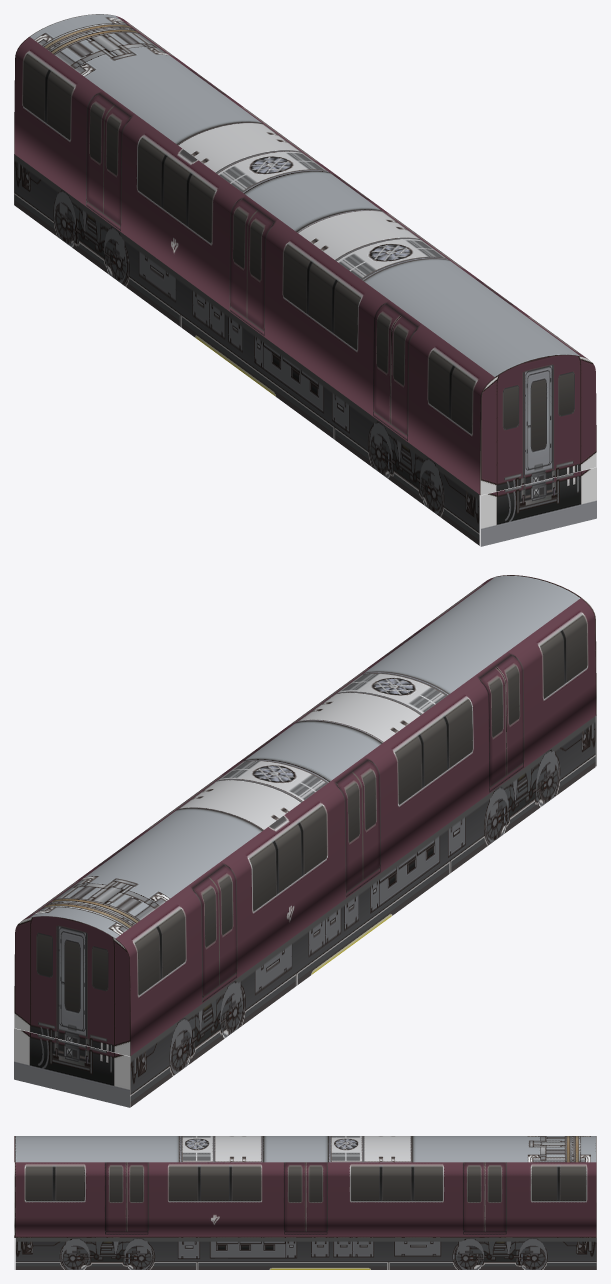
Rendered from car3.glb.
3 views of the same model, one above another, from view 1: azimuth 30°, elevation 25°; view 2: azimuth 150°, elevation 25°; view 3: azimuth 270°, elevation 25° (orthographic). The views are drawn at different scales.
Parts seen in each view (by area): view 1: hankyu-1000-car3; view 2: hankyu-1000-car3; view 3: hankyu-1000-car3.
Part boxes in pixels (bbox=[...]): hankyu-1000-car3: bbox=[14, 14, 596, 546]; hankyu-1000-car3: bbox=[14, 575, 596, 1107]; hankyu-1000-car3: bbox=[14, 1136, 596, 1269].
Size of the model in its own units: 2.73 by 3.9 by 19.03.
Materials: 9 (8 with a texture image).
